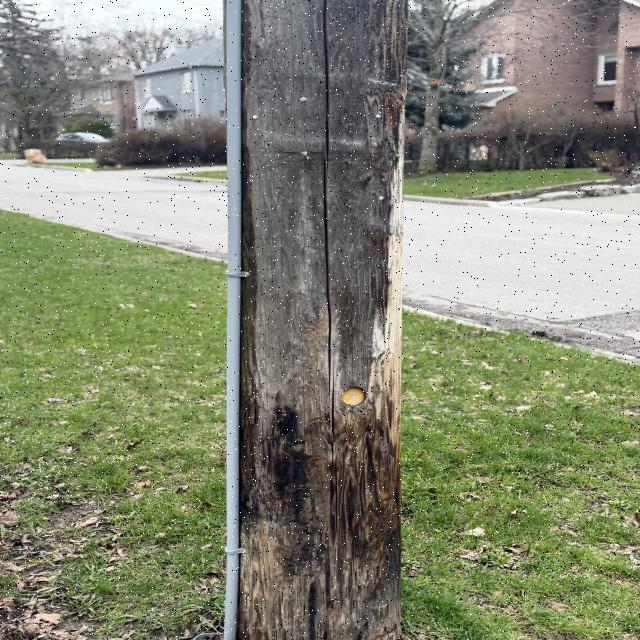Electrical Pole: (210, 2, 412, 639)
